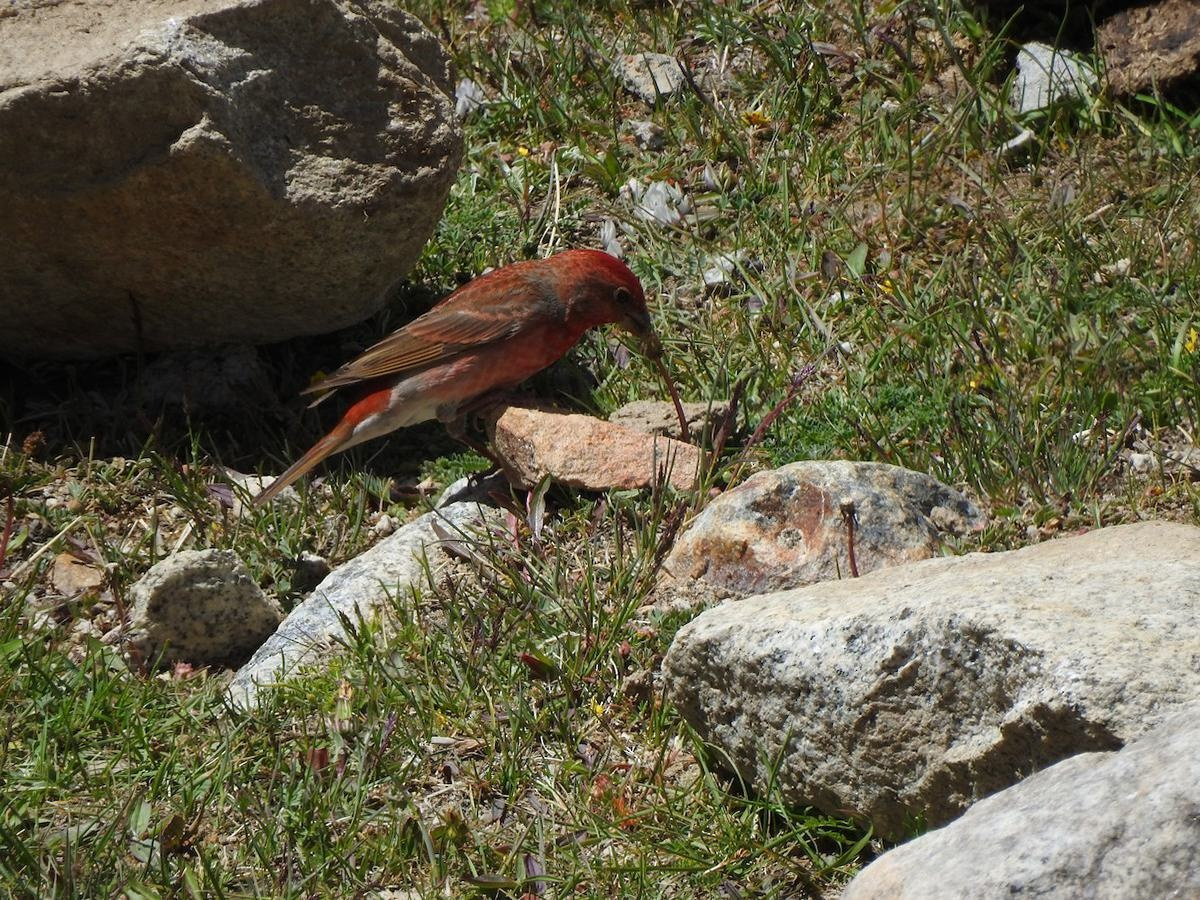rosefinch: (255, 242, 673, 526)
